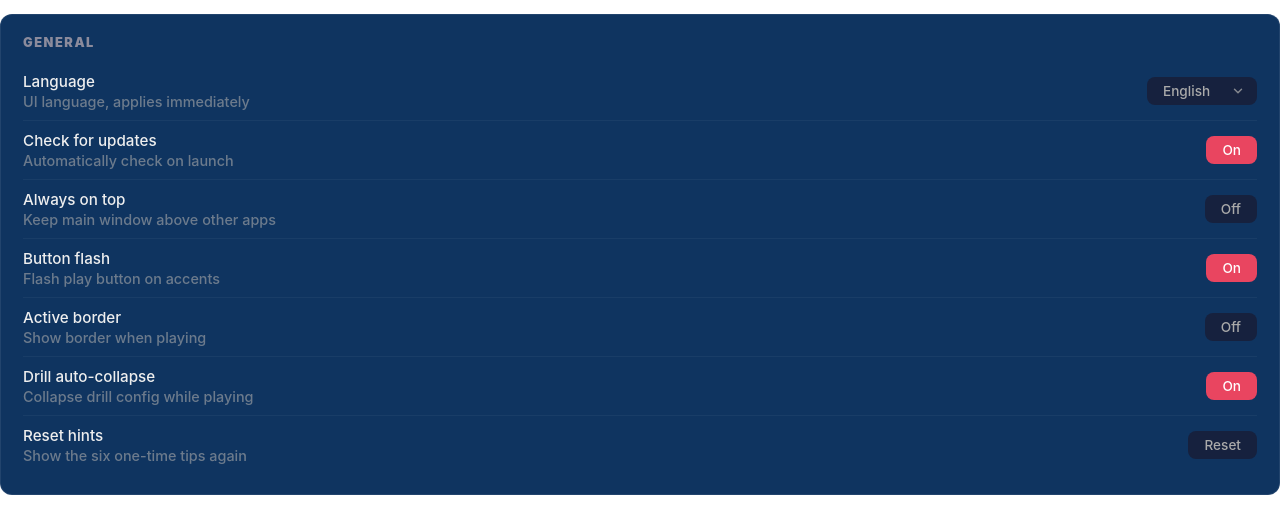
Scenario: GeneralSettingsSection language select › "Reset hints" clears every hints.* key and confirms
This screenshot has width=1280, height=512.
Step 1. Click the button "Reset" → (1223, 445), box [1188,431,1257,459]
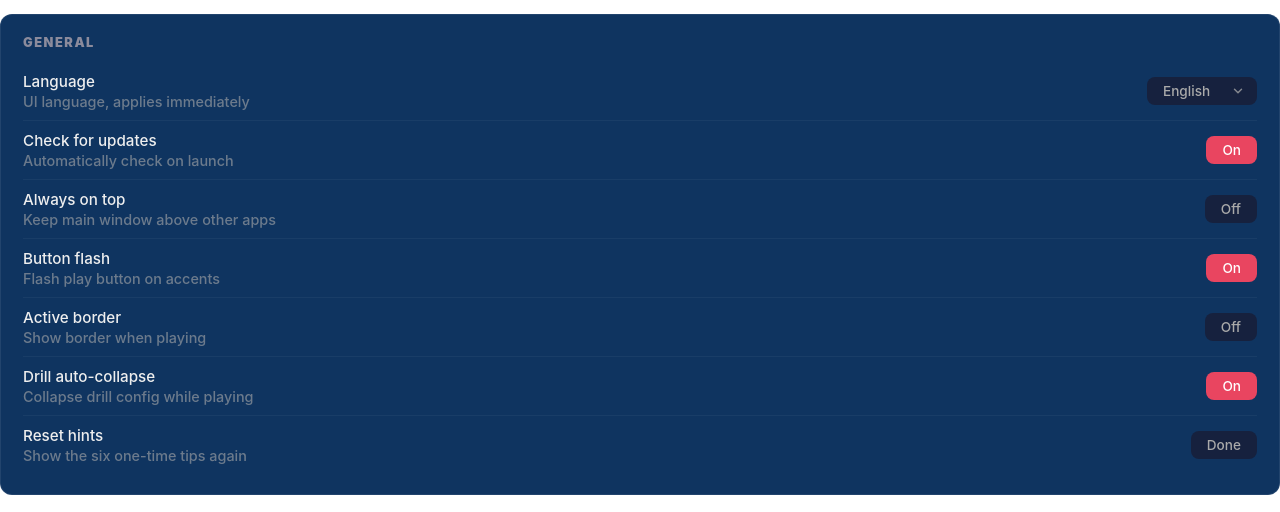
Expected: the button "Done" is shown, [1191,431,1257,459]
